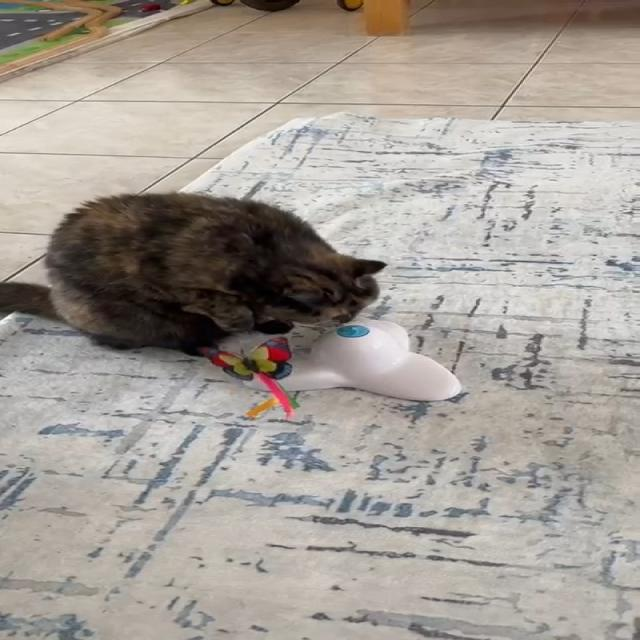authorized: (0, 190, 387, 356)
